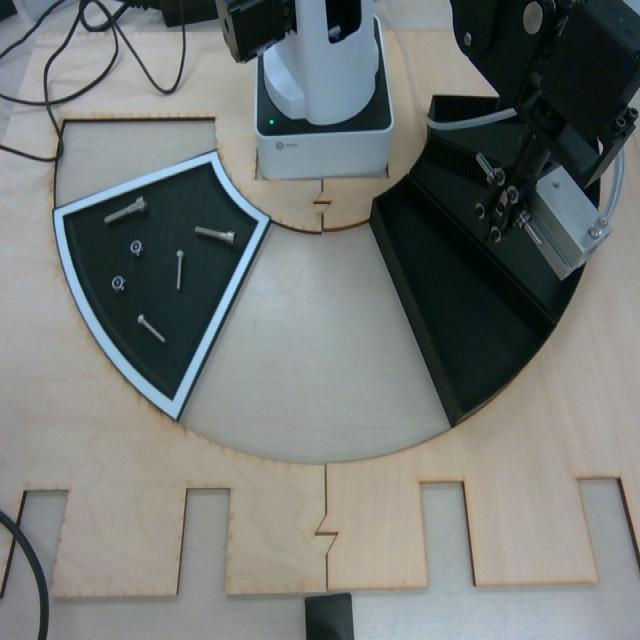Big Bolt: (102, 195, 150, 225), (193, 222, 237, 245)
Metal Nut: (109, 272, 129, 296), (128, 237, 145, 260)
Small Bolt: (135, 312, 169, 346), (172, 247, 188, 291)
